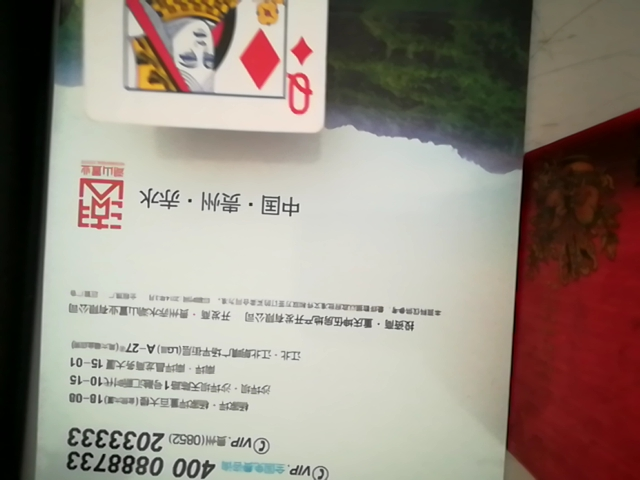fk q: (71, 0, 349, 126)
